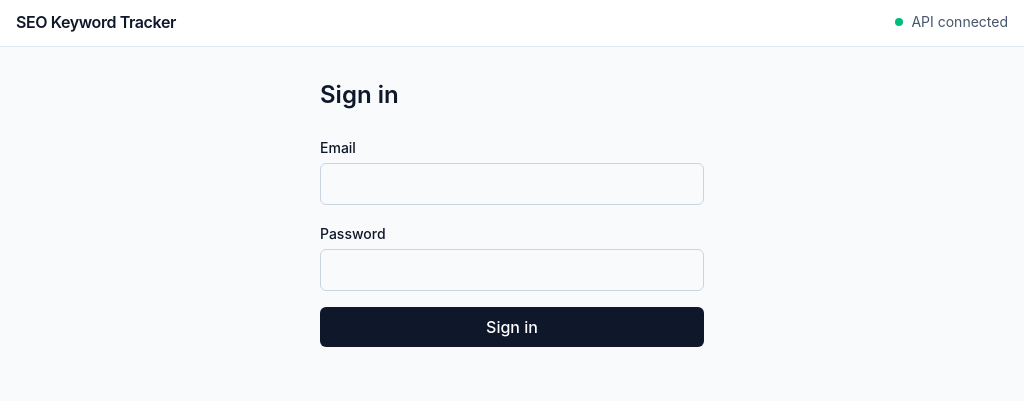
Scenario: sign in › shows the server message for wrong credentials and stays on login
Step 1. Type "alice@agency.test" into the field labelled "Email" → {"x": 512, "y": 184}, box [320, 163, 704, 205]
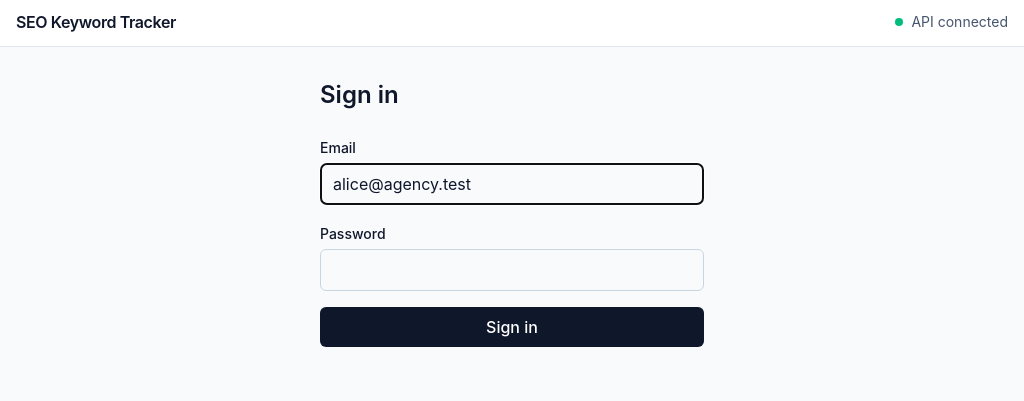
Step 2. Type "wrong" into the password field labelled "Password" → {"x": 512, "y": 270}, box [320, 249, 704, 291]
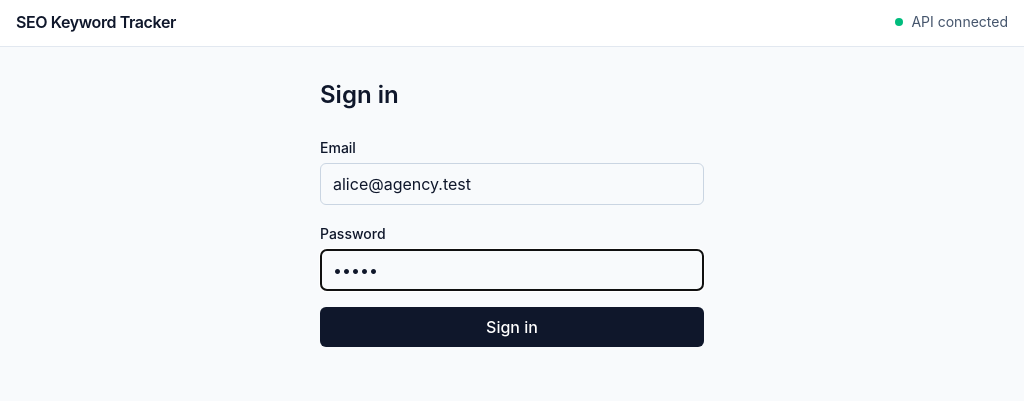
Step 3. Click the button "Sign in" → {"x": 512, "y": 327}, box [320, 307, 704, 347]
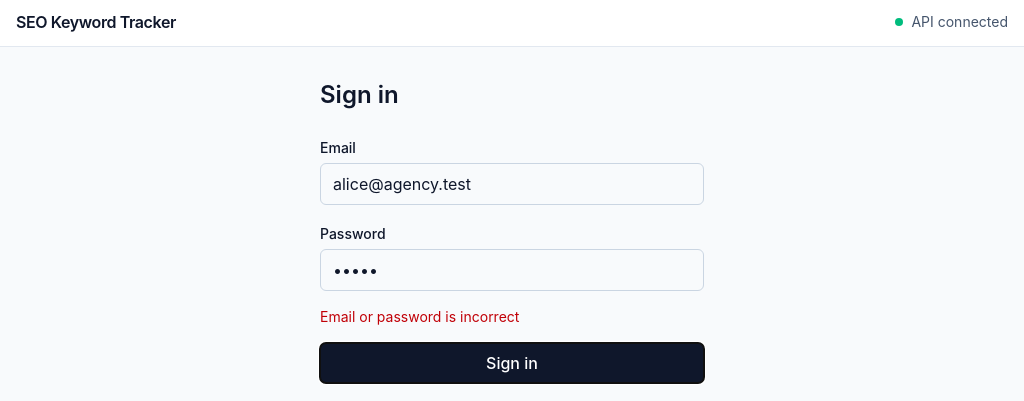
Expected: the button "Sign in" is enabled, [320, 343, 704, 383]
Now the message "Email or password is incorrect" is shown, box [320, 308, 519, 325]
